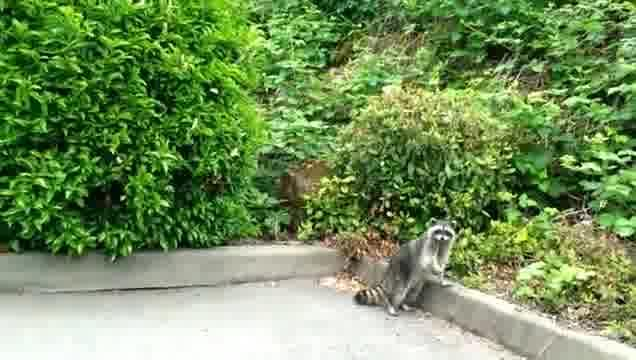raccoon: (353, 217, 456, 319)
